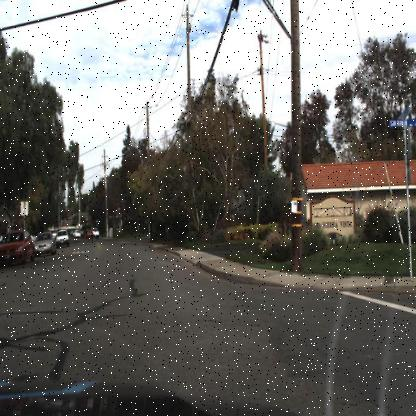car: (0, 229, 43, 266), (31, 229, 59, 259), (33, 229, 56, 256), (53, 226, 72, 251)
